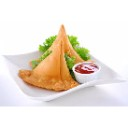samosa: (22, 42, 73, 89), (47, 24, 82, 66)
